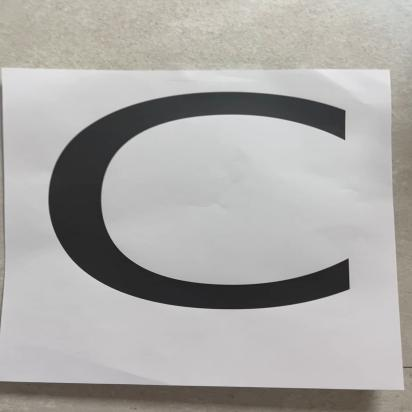seat: (0, 70, 398, 384)
